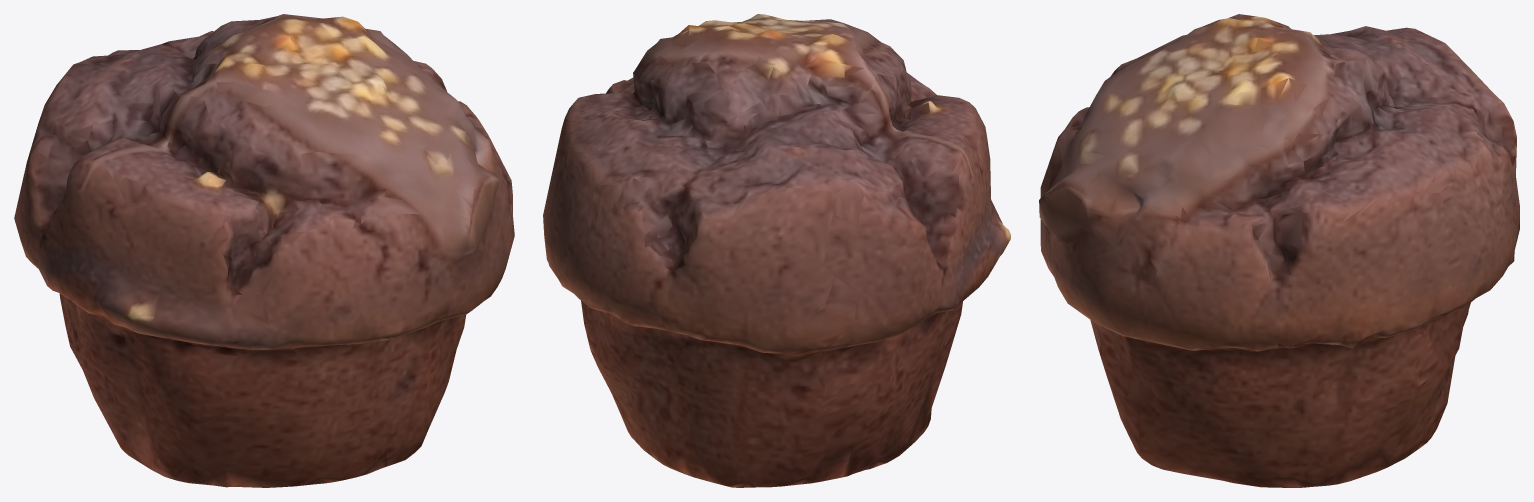
File: muffin_2584.obj
The picture shows the model from 3 angles, left to right: view 1: azimuth 30°, elevation 25°; view 2: azimuth 150°, elevation 25°; view 3: azimuth 270°, elevation 25°; orthographic projection. The views are drawn at different scales.
Bounding box in the file's own units: 14.27 × 12.99 × 14.36.
Materials: 1 (1 with a texture image).
